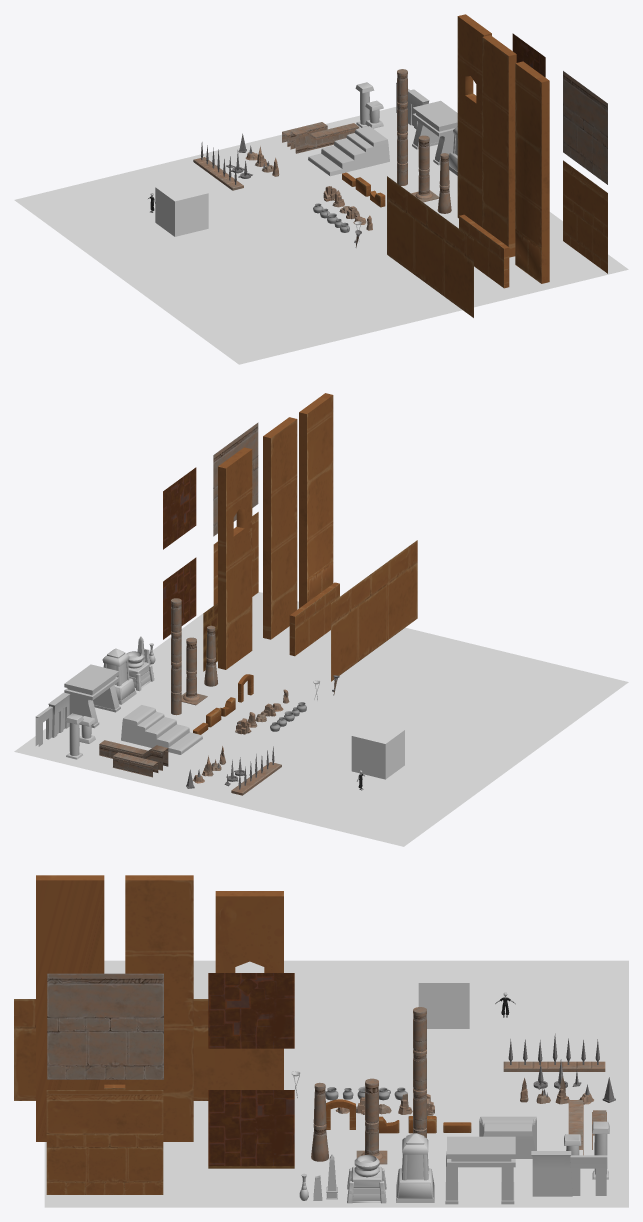
The model's file is Prop_ver1 (1).fbx.
3 renders of one model, top to bottom at view 1: azimuth 30°, elevation 25°; view 2: azimuth 150°, elevation 25°; view 3: azimuth 270°, elevation 25°, orthographic. The views are drawn at different scales.
Parts seen in each view (by area): view 1: plane, stage3_138, stage3_140, stage3_137, stage2_078, prop_module_002, prop_module_000, 300 300 300, prop_module_021, prop_module_006, prop_module_011, prop_module_004 (+5 smaller); view 2: plane, stage2_078, stage3_137, stage3_140, stage3_138, 300 300 300, prop_module_021, prop_module_011, prop_module_006, stage2_076, stage2_077, prop_module_002 (+10 smaller); view 3: plane, prop_module_002, prop_module_000, stage3_137, stage3_138, stage2_078, stage2_076, stage2_077, stage3_140, 300 300 300, prop_module_011, prop_module_001 (+10 smaller).
Part boxes in pixels (<box>): plane: <box>14,107,628,364</box>; stage3_138: <box>515,61,549,283</box>; stage3_140: <box>387,176,473,317</box>; stage3_137: <box>482,35,516,257</box>; stage2_078: <box>457,14,491,227</box>; prop_module_002: <box>563,71,607,184</box>; prop_module_000: <box>563,160,607,273</box>; 300 300 300: <box>155,179,208,236</box>; prop_module_021: <box>308,126,389,176</box>; prop_module_006: <box>459,214,509,288</box>; prop_module_011: <box>412,100,457,165</box>; prop_module_004: <box>397,69,407,185</box>; plane: <box>14,592,628,846</box>; stage2_078: <box>218,447,252,669</box>; stage3_137: <box>263,417,297,639</box>; stage3_140: <box>331,540,417,681</box>; stage3_138: <box>299,393,333,608</box>; 300 300 300: <box>351,721,404,779</box>; prop_module_021: <box>121,705,202,754</box>; prop_module_011: <box>64,664,120,728</box>; prop_module_006: <box>289,582,339,656</box>; stage2_076: <box>163,467,196,549</box>; stage2_077: <box>163,557,196,639</box>; prop_module_002: <box>213,422,258,536</box>; plane: <box>44,960,628,1207</box>; prop_module_002: <box>47,973,163,1079</box>; prop_module_000: <box>46,1090,163,1194</box>; stage3_137: <box>125,875,193,1141</box>; stage3_138: <box>36,875,104,1141</box>; stage2_078: <box>215,891,283,1089</box>; stage2_076: <box>208,973,294,1048</box>; stage2_077: <box>208,1090,294,1165</box>; stage3_140: <box>14,999,215,1100</box>; 300 300 300: <box>418,961,469,1028</box>; prop_module_011: <box>445,1136,515,1204</box>; prop_module_001: <box>531,1151,607,1196</box>.
Bounding box in the file's own units: 3445 × 1865 × 3626.
